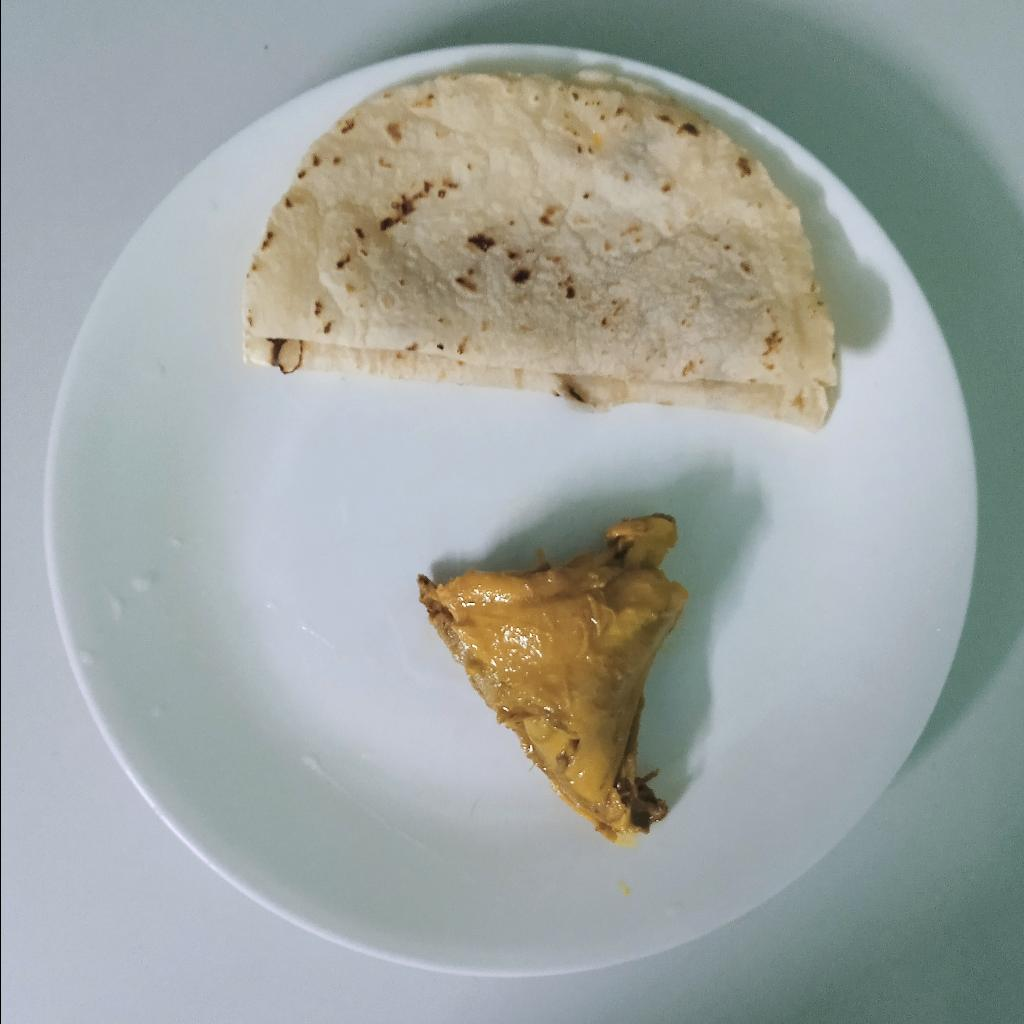chicken: (417, 516, 687, 837)
ruti: (241, 69, 837, 433)
